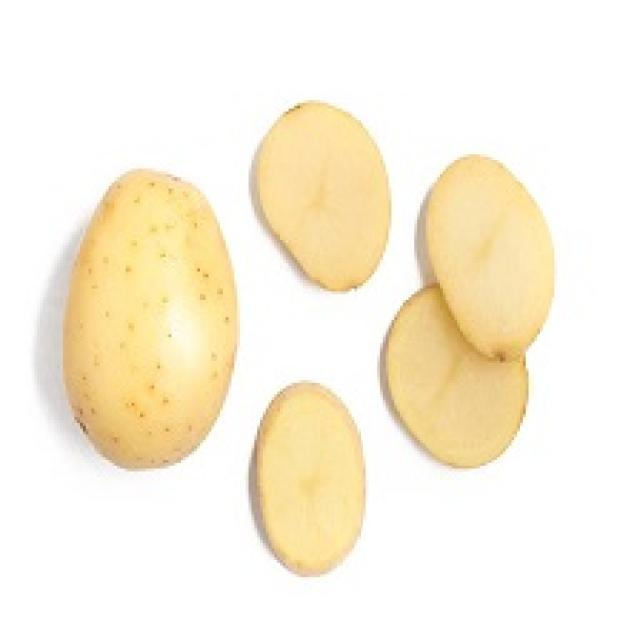healthy: (51, 155, 245, 482), (374, 142, 559, 480), (244, 83, 401, 302), (245, 361, 373, 586)
